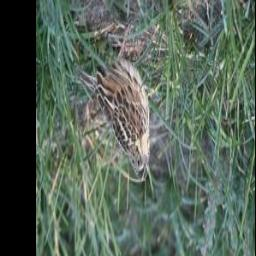Sparrow: (68, 18, 153, 192)
